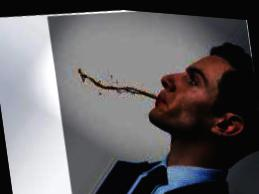spitting: (45, 2, 259, 193)
